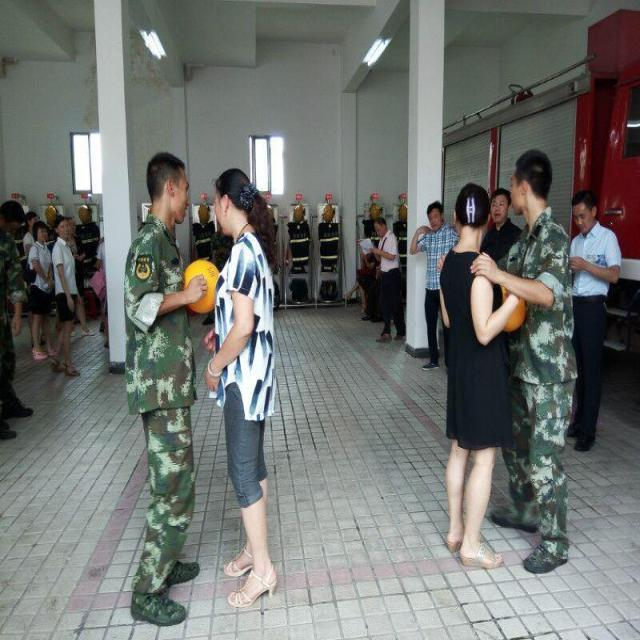non-fight: (122, 150, 204, 620), (198, 167, 278, 610), (438, 149, 518, 572), (504, 155, 574, 575), (558, 188, 622, 454), (366, 198, 406, 344)
